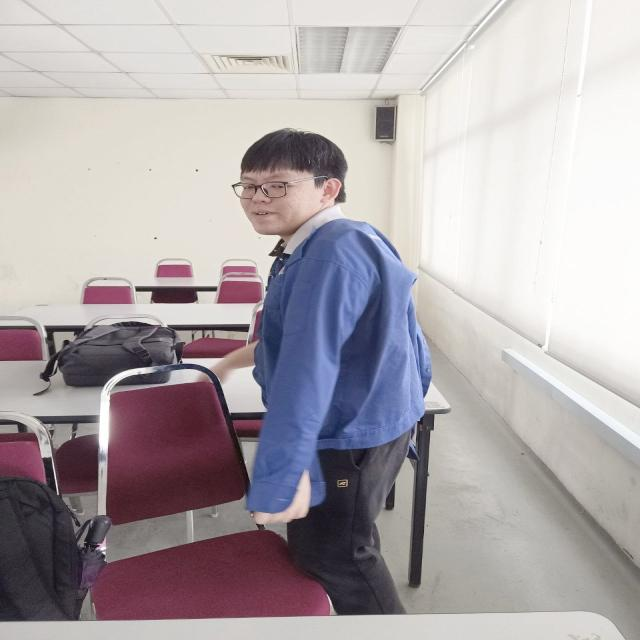person_without_labcoat: (212, 129, 430, 614)
